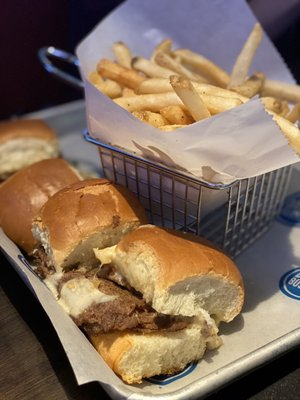soup: (19, 166, 246, 384), (52, 223, 246, 385), (0, 119, 61, 183)
sushi: (45, 0, 300, 185)
